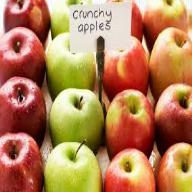apple: (48, 91, 105, 154), (107, 90, 154, 160), (47, 31, 98, 94), (101, 34, 150, 98), (1, 79, 48, 141), (44, 141, 99, 191), (2, 28, 46, 88), (149, 27, 190, 90), (102, 147, 156, 190), (156, 80, 191, 146), (0, 2, 51, 46), (100, 1, 146, 41), (158, 146, 192, 186)
